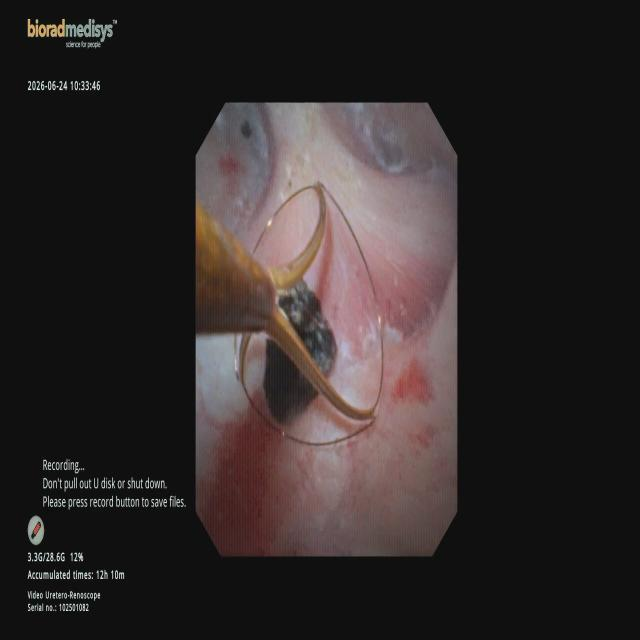stone-new: (279, 280, 337, 376), (263, 340, 317, 423), (241, 121, 252, 138)
